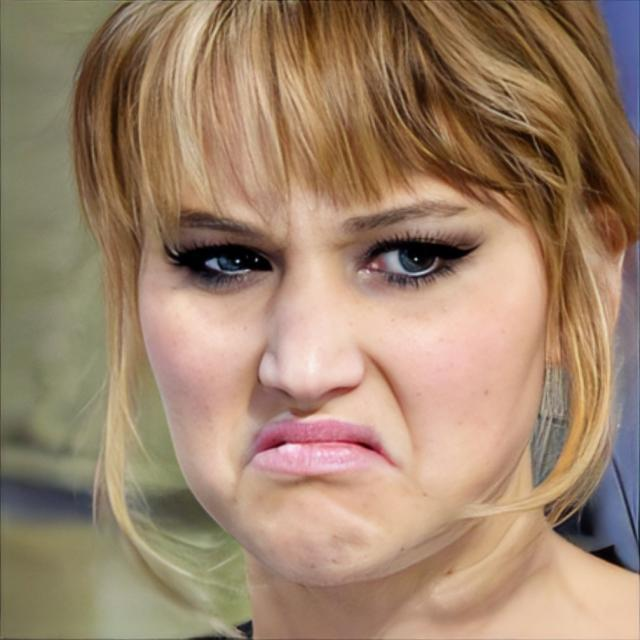disgust: (134, 79, 546, 592)
